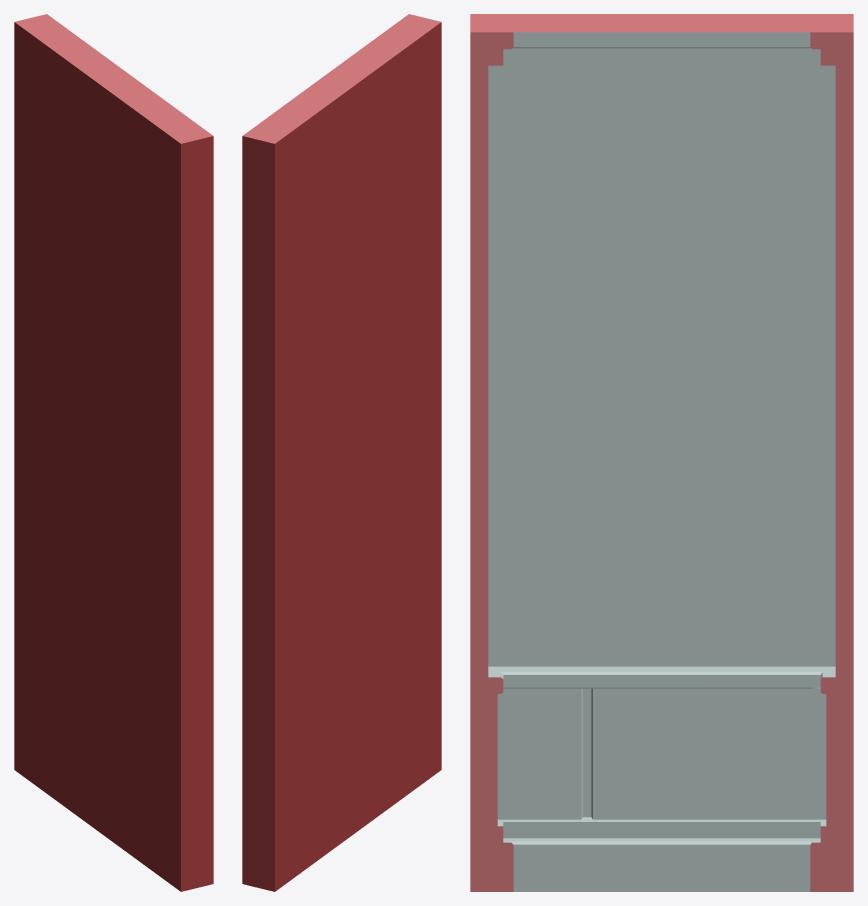
Rendered from Hallway_Wall.fbx.
3 renders of one model, left to right at view 1: azimuth 30°, elevation 25°; view 2: azimuth 150°, elevation 25°; view 3: azimuth 270°, elevation 25°, orthographic. The views are drawn at different scales.
Visible parts, largest first — view 1: polySurface299; view 2: polySurface299; view 3: polySurface299.
Part boxes in pixels (bbox=[...]): polySurface299: bbox=[14, 14, 213, 891]; polySurface299: bbox=[242, 14, 441, 891]; polySurface299: bbox=[470, 14, 853, 891].
Bounding box in the file's own units: 2.37 × 52 × 21.
